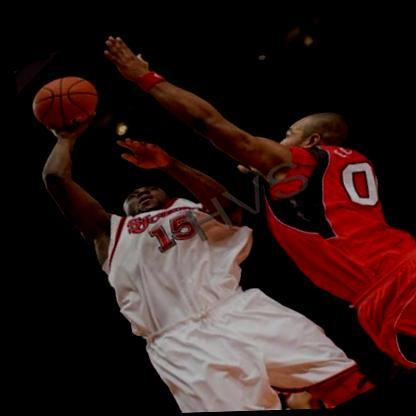basketball: (13, 64, 110, 144)
